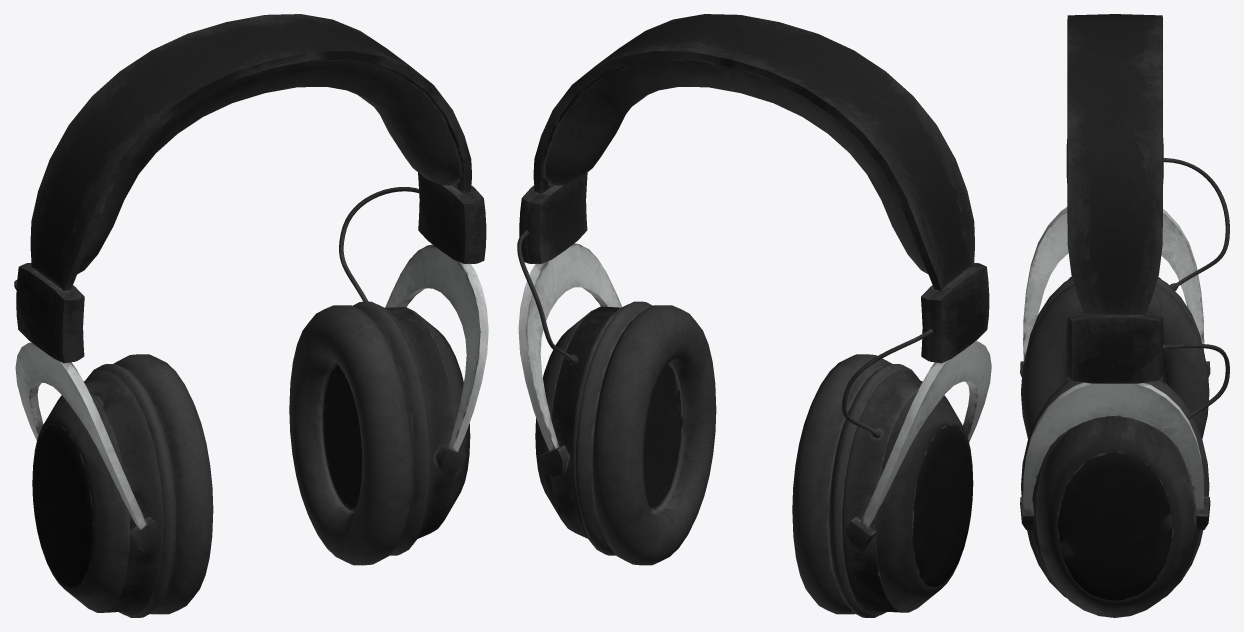
The model's file is headphones.glb.
The picture shows the model from 3 angles, left to right: view 1: azimuth 30°, elevation 25°; view 2: azimuth 150°, elevation 25°; view 3: azimuth 270°, elevation 25°; orthographic projection. The views are drawn at different scales.
Visible parts, largest first — view 1: HyperX Cloud Headphones; view 2: HyperX Cloud Headphones; view 3: HyperX Cloud Headphones.
Part boxes in pixels (left/top/right/bottom): HyperX Cloud Headphones: left=14, top=14, right=488, bottom=617; HyperX Cloud Headphones: left=517, top=14, right=991, bottom=617; HyperX Cloud Headphones: left=1020, top=14, right=1229, bottom=617.
Size of the model in its own units: 0.1654 by 0.2024 by 0.0746.
1 material, 1 textured.
